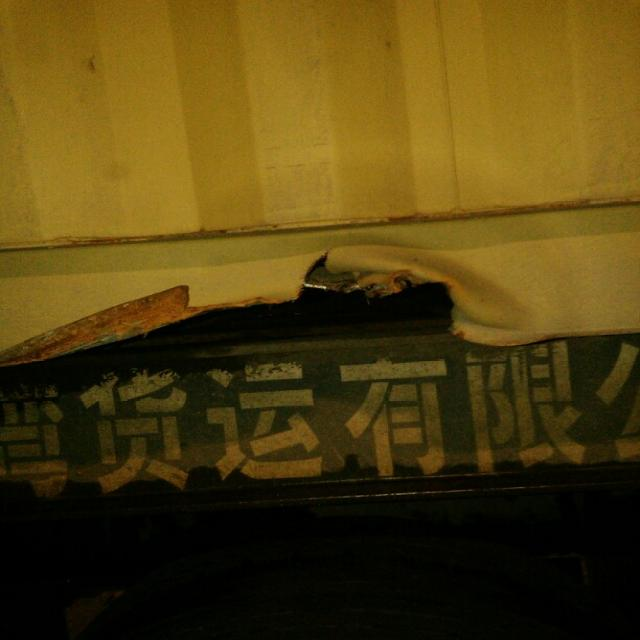dent: (1, 231, 561, 378)
